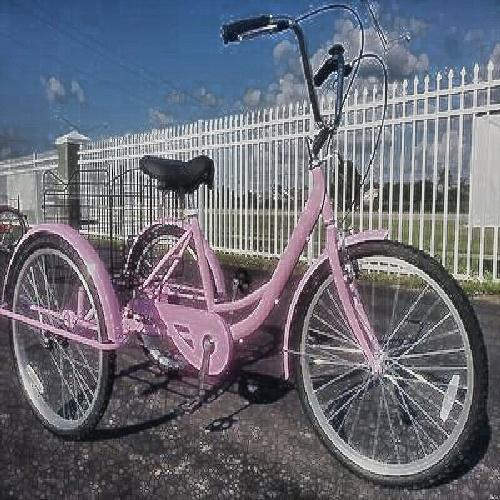bicycle: (24, 28, 473, 451)
